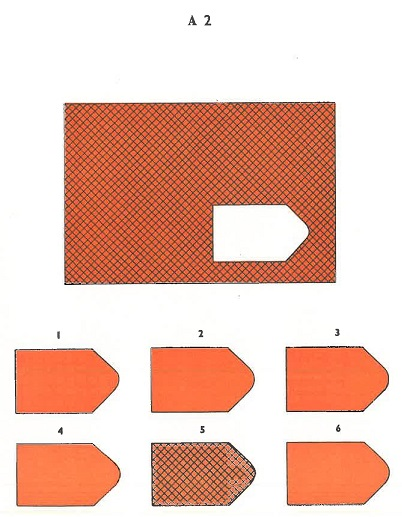Array 1: (11, 327, 122, 418)
Array 2: (146, 327, 258, 417)
Array 3: (281, 326, 393, 417)
Array 4: (11, 422, 125, 512)
Array 5: (146, 420, 260, 511)
Array 6: (281, 421, 396, 510)
Matrix: (57, 97, 341, 287)
Matrix Unknown: (208, 202, 310, 263)
